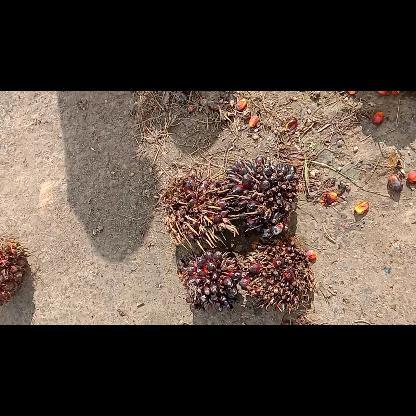TBS abnormal: (220, 156, 298, 236), (164, 168, 238, 252), (239, 240, 317, 310), (176, 248, 240, 310)
